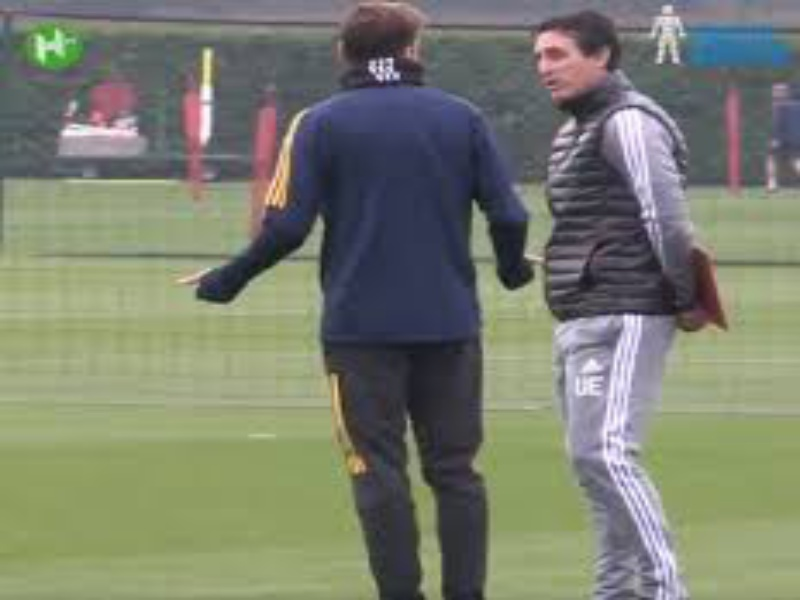TsisyArotava: (520, 11, 630, 113)
